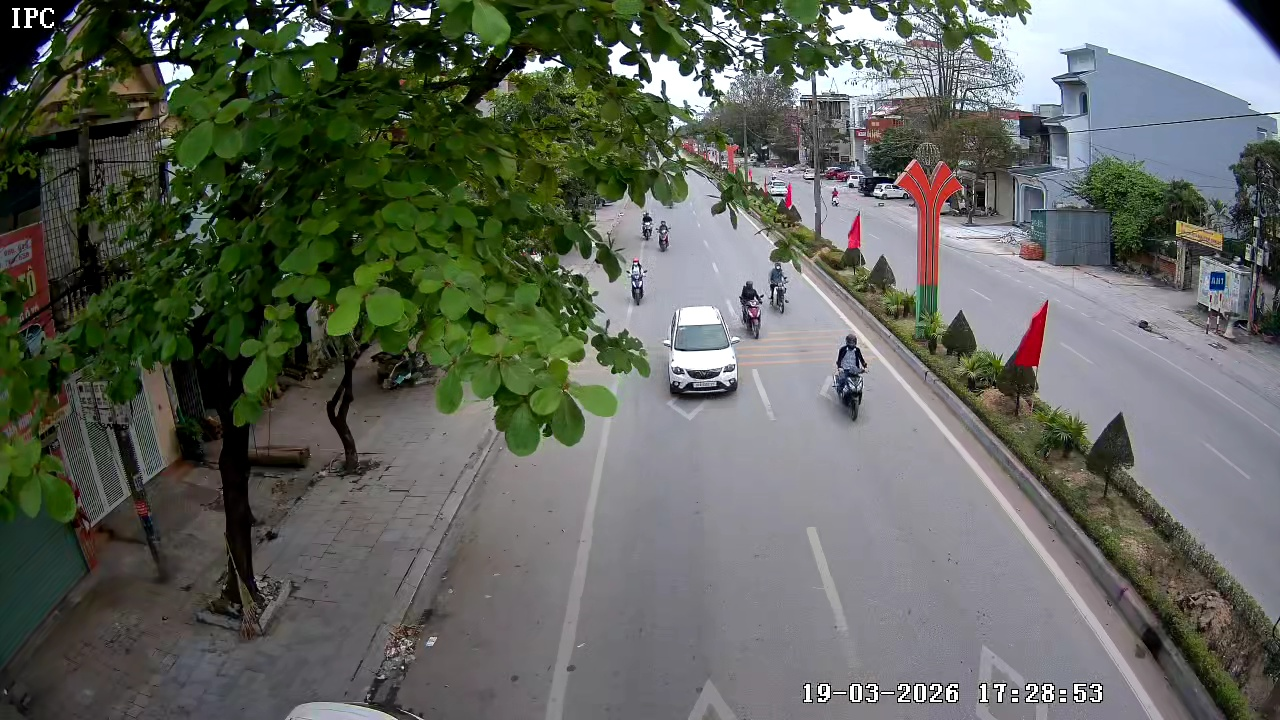car: (662, 304, 741, 397)
motorbike: (822, 332, 870, 422), (739, 278, 765, 338), (766, 258, 792, 315), (628, 254, 649, 305), (656, 216, 672, 253), (639, 208, 652, 246)
